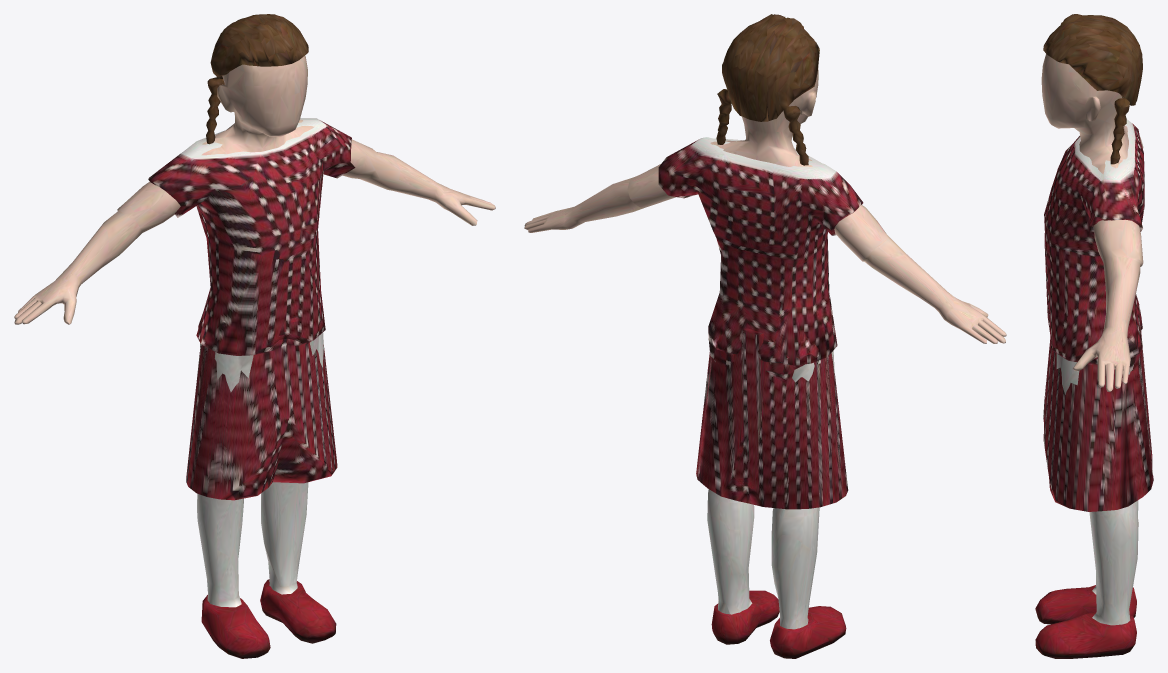
Rendered from npc_x_girl1.glb.
3 renders of one model, left to right at view 1: azimuth 30°, elevation 25°; view 2: azimuth 150°, elevation 25°; view 3: azimuth 270°, elevation 25°, orthographic.
Visible parts, largest first — view 1: Human; view 2: Human; view 3: Human.
Boxes of the visible parts, x1=… form: Human: x1=14, y1=14, x2=495, y2=658; Human: x1=524, y1=14, x2=1006, y2=658; Human: x1=1035, y1=14, x2=1153, y2=658.
Size of the model in its own units: 1.12 by 1.38 by 0.2391.
Materials: 1 (1 with a texture image).
